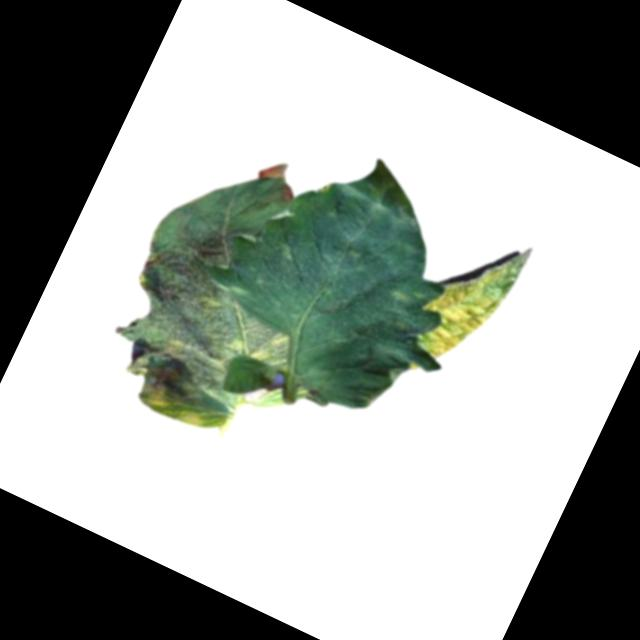Leaf_Mold: (90, 211, 330, 456), (403, 218, 531, 376), (373, 275, 427, 334)
